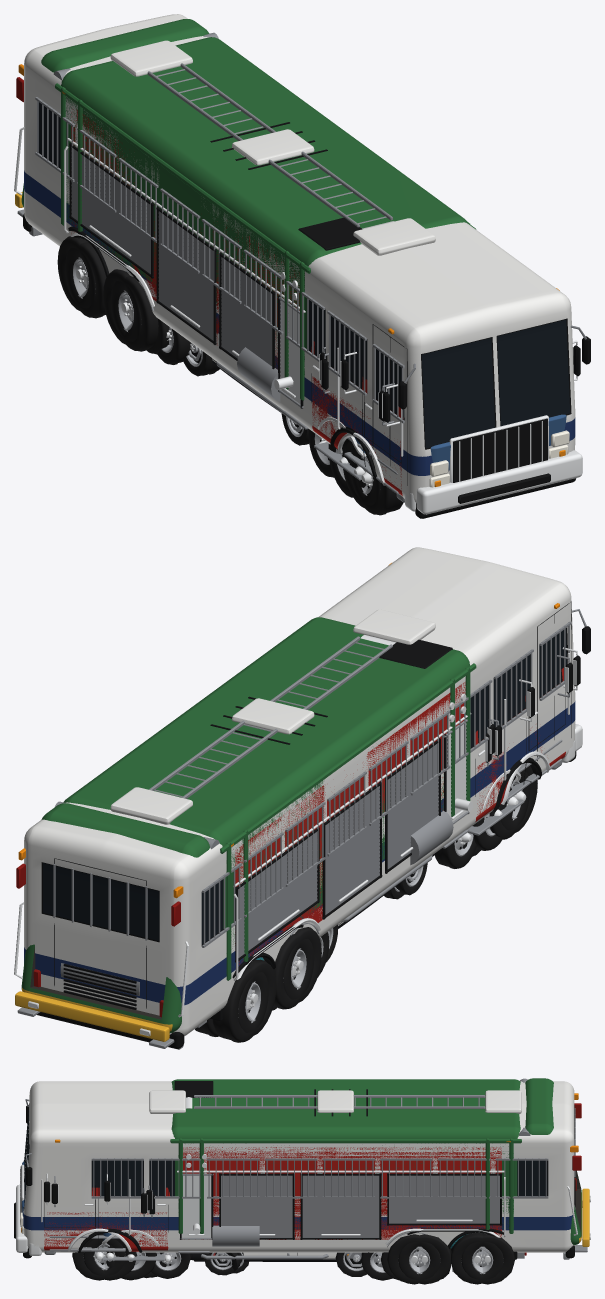
File: vehicles.glb
3 renders of one model, top to bottom at view 1: azimuth 30°, elevation 25°; view 2: azimuth 150°, elevation 25°; view 3: azimuth 270°, elevation 25°, orthographic. The views are drawn at different scales.
Visible parts, largest first — view 1: bus_body, garbage_body, engine_body, tanker_body, wheel_1_R_mesh (×4), wheel_2_R_mesh (×2), wheel_0_R_mesh (×2), arm_mesh, shuttle_body; view 2: bus_body, garbage_body, engine_body, wheel_2_R_mesh (×2), wheel_1_R_mesh (×2), tanker_body, wheel_0_R_mesh (×3), arm_mesh; view 3: bus_body, engine_body, garbage_body, wheel_1_L_mesh (×4), wheel_0_L_mesh (×5), wheel_2_L_mesh (×2), tanker_body, cruiser_body, lawntruck_body, arm_mesh, shuttle_body.
Boxes of the visible parts, <box> form: bus_body: <box>23,14,590,518</box>; garbage_body: <box>14,19,476,502</box>; engine_body: <box>64,63,580,511</box>; tanker_body: <box>29,226,582,514</box>; wheel_1_R_mesh (×4): <box>103,269,219,376</box>; wheel_2_R_mesh (×2): <box>57,236,106,318</box>; wheel_0_R_mesh (×2): <box>342,440,403,515</box>; arm_mesh: <box>298,217,362,250</box>; shuttle_body: <box>210,122,329,393</box>; bus_body: <box>24,547,590,1048</box>; garbage_body: <box>14,617,572,1048</box>; engine_body: <box>149,635,580,1020</box>; wheel_2_R_mesh (×2): <box>195,959,276,1042</box>; wheel_1_R_mesh (×2): <box>273,927,321,1009</box>; tanker_body: <box>48,679,582,1049</box>; wheel_0_R_mesh (×3): <box>434,766,537,868</box>; arm_mesh: <box>379,639,452,668</box>; bus_body: <box>21,1081,576,1258</box>; engine_body: <box>29,1095,517,1260</box>; garbage_body: <box>44,1078,590,1254</box>; wheel_1_L_mesh (×4): <box>335,1234,451,1284</box>; wheel_0_L_mesh (×5): <box>72,1233,241,1280</box>; wheel_2_L_mesh (×2): <box>451,1232,515,1284</box>; tanker_body: <box>14,1161,575,1259</box>; cruiser_body: <box>190,1252,336,1261</box>; lawntruck_body: <box>201,1253,328,1259</box>; arm_mesh: <box>174,1081,213,1097</box>; shuttle_body: <box>141,1089,466,1248</box>.
Bounding box in the file's own units: 2.97 × 3.32 × 11.
